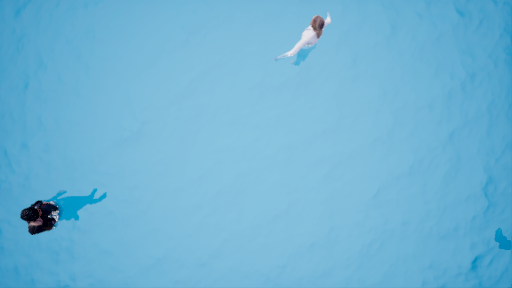person: (17, 184, 109, 238), (281, 9, 328, 70)
